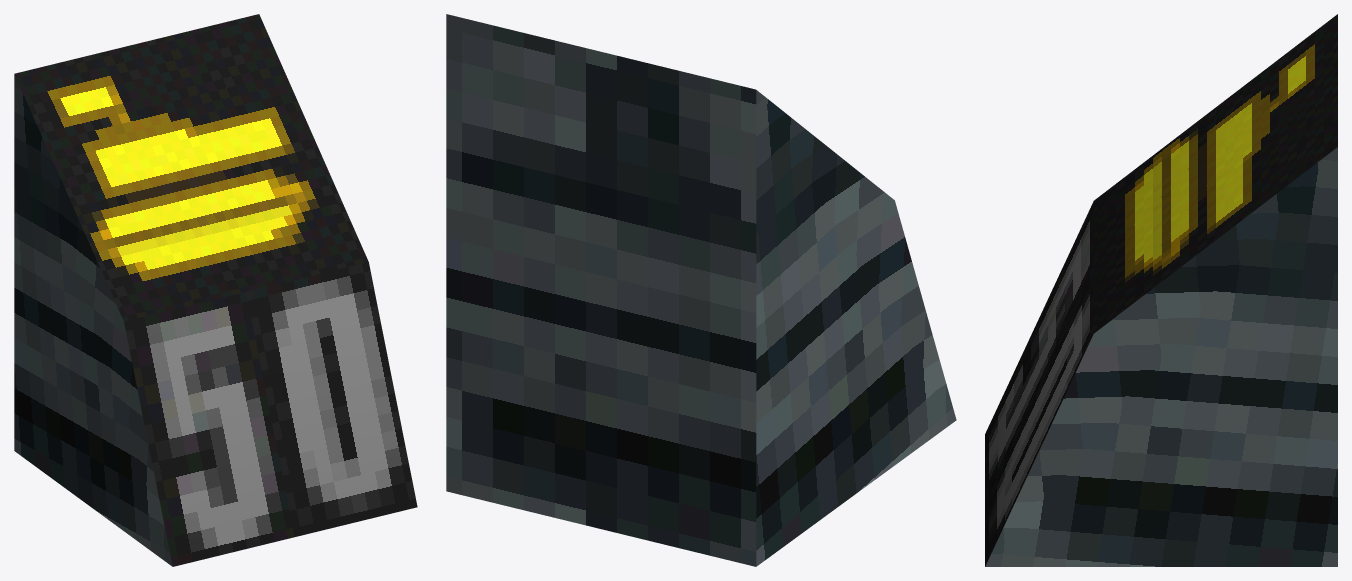
The picture shows the model from 3 angles, left to right: view 1: azimuth 30°, elevation 25°; view 2: azimuth 150°, elevation 25°; view 3: azimuth 270°, elevation 25°; orthographic projection. The views are drawn at different scales.
Parts seen in each view (by area): view 1: Hk_obj_034; view 2: Hk_obj_034; view 3: Hk_obj_034.
Boxes of the visible parts, <box> form: Hk_obj_034: <box>14,14,417,566</box>; Hk_obj_034: <box>446,14,956,566</box>; Hk_obj_034: <box>985,14,1337,566</box>.
Bounding box in the file's own units: 0.5996 × 0.8828 × 0.6719.
1 material, 1 textured.
